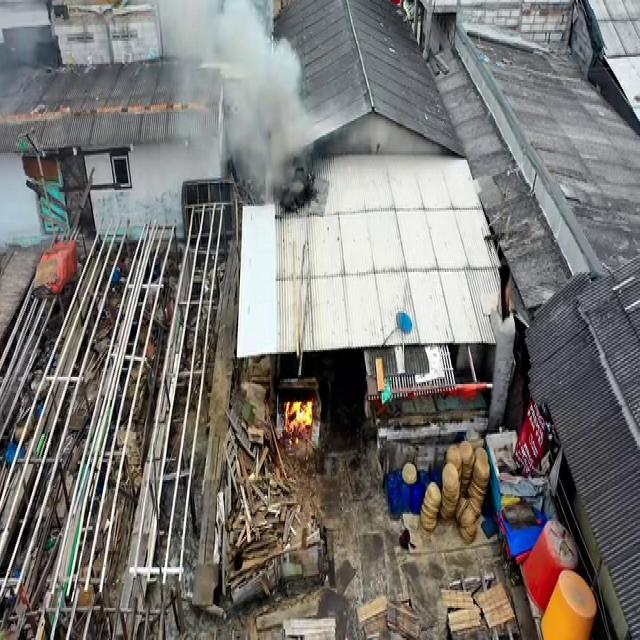smoke: (230, 103, 312, 210), (212, 1, 274, 120), (156, 0, 223, 105), (268, 40, 304, 110)
